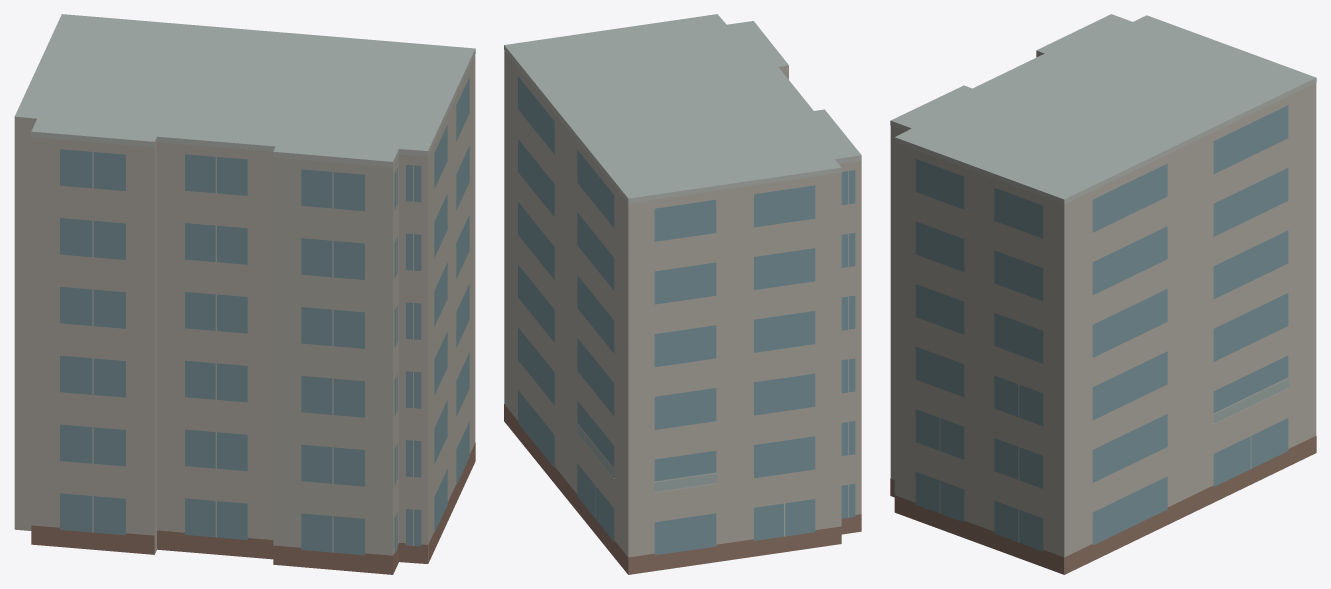
The model's file is survey-upis-33040353.glb.
The picture shows the model from 3 angles, left to right: view 1: azimuth 30°, elevation 25°; view 2: azimuth 150°, elevation 25°; view 3: azimuth 270°, elevation 25°; orthographic projection. The views are drawn at different scales.
Parts seen in each view (by area): view 1: survey-upis-33040353.tmp; view 2: survey-upis-33040353.tmp; view 3: survey-upis-33040353.tmp.
Boxes of the visible parts, x1,y1,x2,y2 form: survey-upis-33040353.tmp: (14, 14, 475, 574); survey-upis-33040353.tmp: (504, 14, 861, 574); survey-upis-33040353.tmp: (890, 14, 1316, 574).
Bounding box in the file's own units: 19.41 × 18.3 × 18.83.
